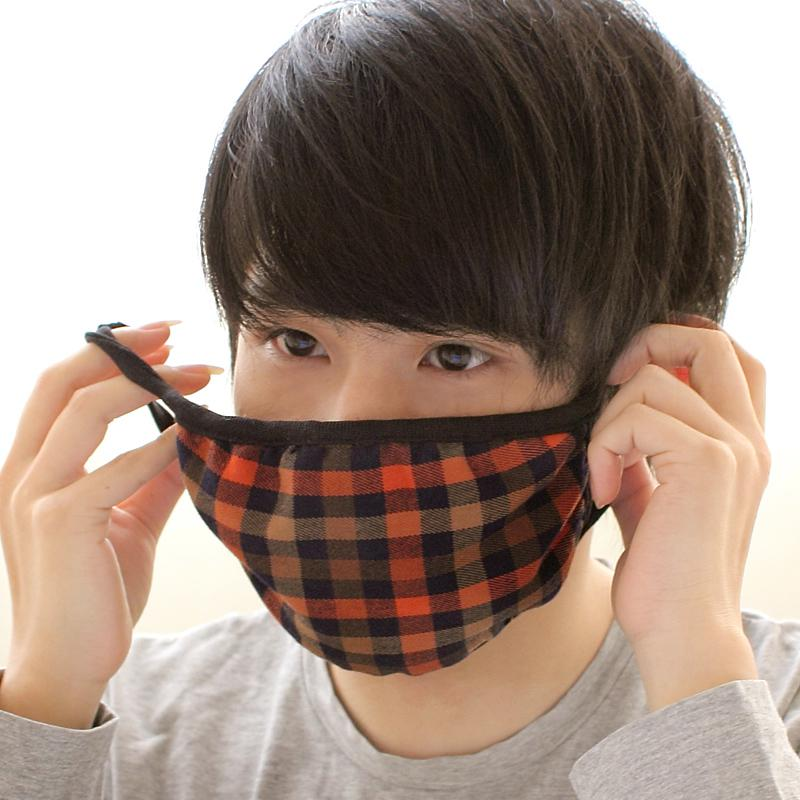WRONG: (213, 267, 610, 652)
